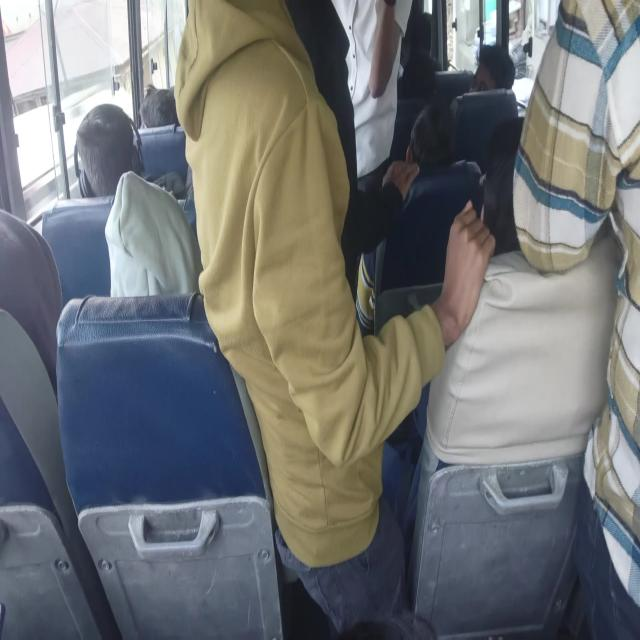person: (534, 14, 640, 605), (210, 0, 375, 289), (273, 0, 364, 171), (109, 188, 199, 340), (302, 0, 399, 137), (0, 213, 52, 407), (490, 123, 560, 250), (80, 114, 147, 192), (404, 111, 459, 176), (136, 82, 191, 146), (476, 47, 520, 108)
